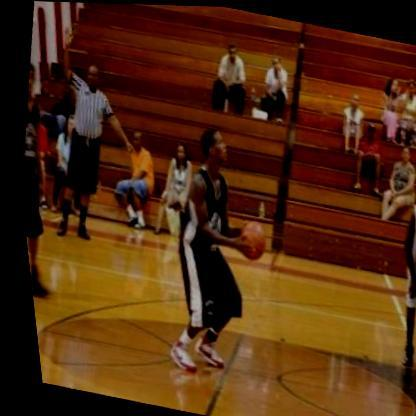basketball: (228, 214, 268, 263)
